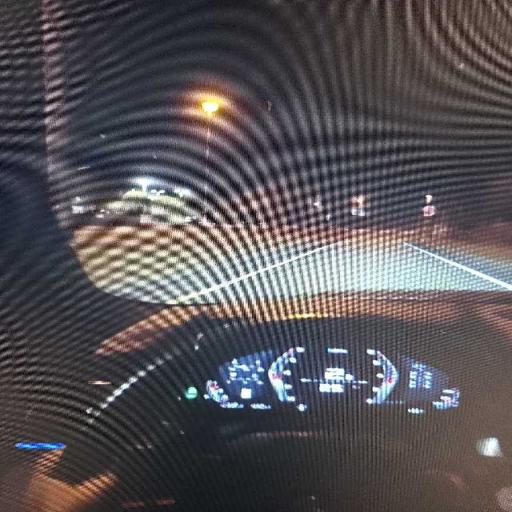lane: (102, 241, 503, 303), (404, 243, 511, 290)
